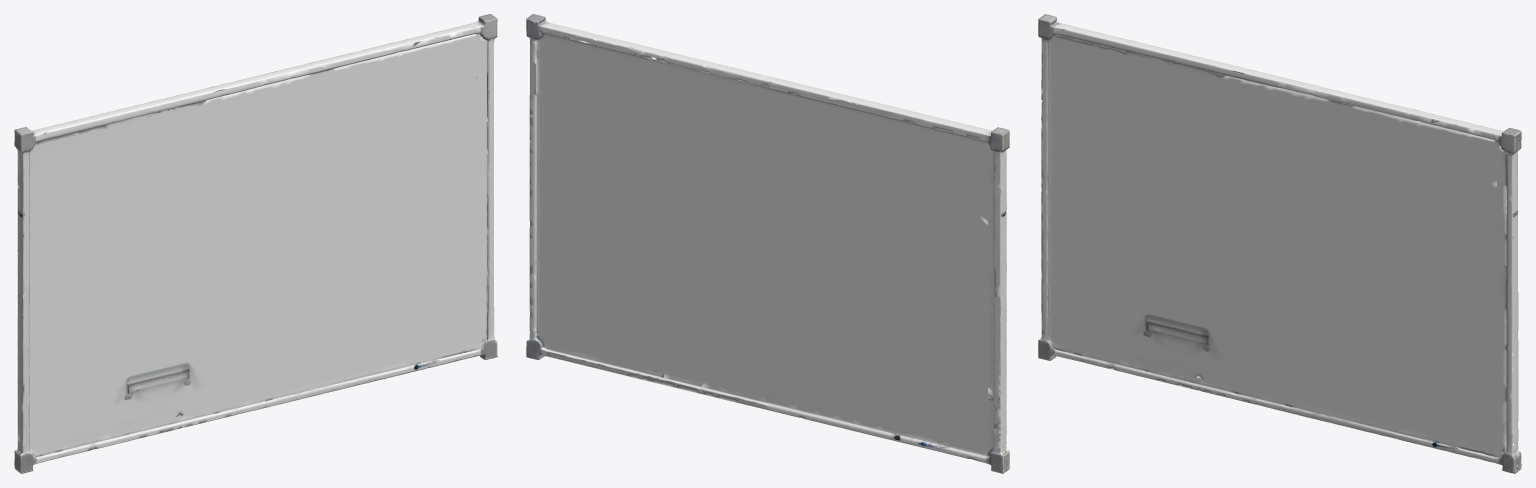
Rendered from lousa.glb.
3 views of the same model, side by side, from view 1: azimuth 30°, elevation 25°; view 2: azimuth 150°, elevation 25°; view 3: azimuth 330°, elevation 25° (orthographic).
Bounding box in the file's own units: 2 × 1.36 × 0.0523.
Materials: 1 (1 with a texture image).
